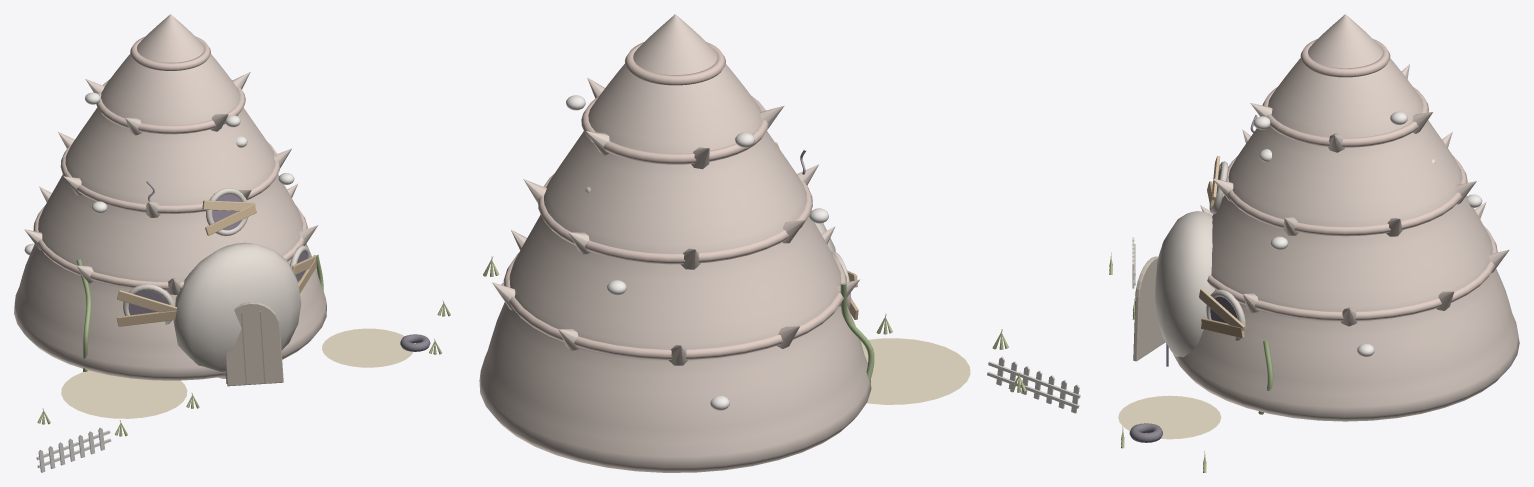
File: building_ocean_L01.glb
3 renders of one model, left to right at view 1: azimuth 30°, elevation 25°; view 2: azimuth 150°, elevation 25°; view 3: azimuth 270°, elevation 25°, orthographic. The views are drawn at different scales.
Visible parts, largest first — view 1: Body, ocean_L1; view 2: Body, ocean_L1; view 3: Body, ocean_L1.
Part boxes in pixels (left/top/right/bottom): Body: left=14, top=14, right=326, bottom=386; ocean_L1: left=36, top=300, right=450, bottom=472; Body: left=479, top=14, right=874, bottom=472; ocean_L1: left=483, top=256, right=1080, bottom=413; Body: left=1133, top=14, right=1519, bottom=421; ocean_L1: left=1109, top=237, right=1221, bottom=472.
Bounding box in the file's own units: 24.39 × 17.48 × 17.52.
